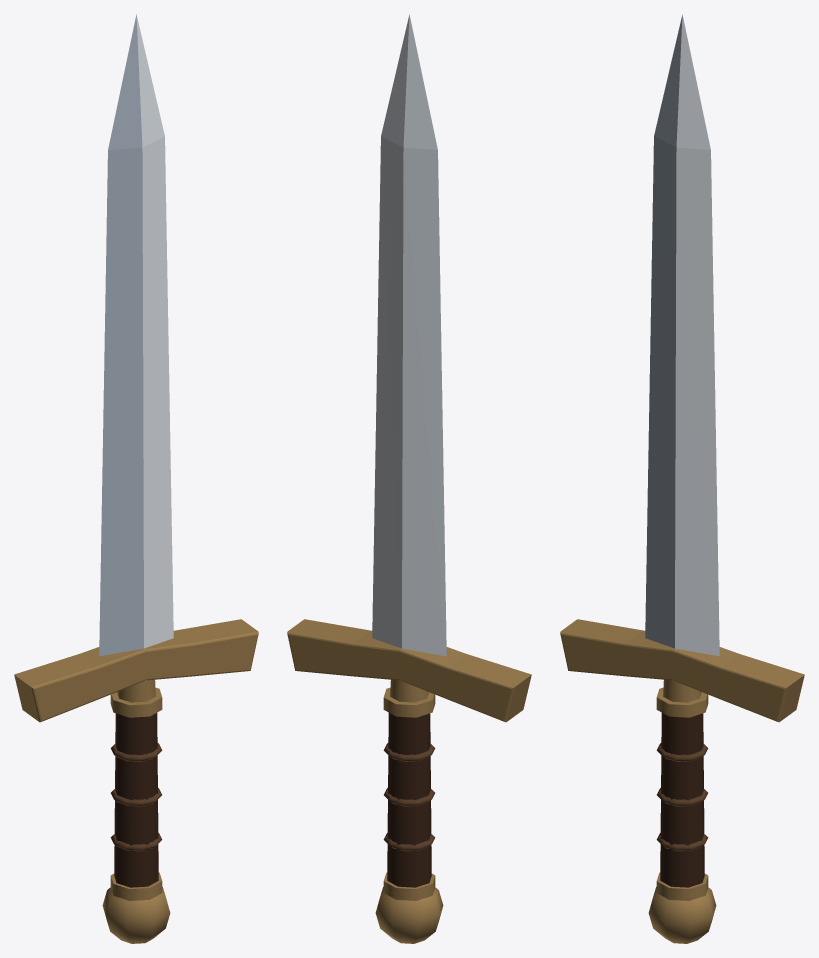
The model's file is sword_f0_f70545a2.glb.
3 renders of one model, left to right at view 1: azimuth 30°, elevation 25°; view 2: azimuth 150°, elevation 25°; view 3: azimuth 330°, elevation 25°, orthographic.
Visible parts, largest first — view 1: m0_ow80_, m2_ow80_, m1_ow80_, m3_ow80_; view 2: m0_ow80_, m2_ow80_, m1_ow80_, m3_ow80_; view 3: m0_ow80_, m2_ow80_, m1_ow80_, m3_ow80_.
Boxes of the visible parts, x1=… form: m0_ow80_: x1=99, y1=14, x2=173, y2=656; m2_ow80_: x1=14, y1=619, x2=258, y2=943; m1_ow80_: x1=114, y1=713, x2=158, y2=887; m3_ow80_: x1=110, y1=743, x2=162, y2=851; m0_ow80_: x1=372, y1=14, x2=446, y2=656; m2_ow80_: x1=287, y1=619, x2=531, y2=943; m1_ow80_: x1=387, y1=713, x2=431, y2=887; m3_ow80_: x1=383, y1=743, x2=435, y2=851; m0_ow80_: x1=645, y1=14, x2=719, y2=656; m2_ow80_: x1=560, y1=619, x2=804, y2=943; m1_ow80_: x1=660, y1=713, x2=704, y2=887; m3_ow80_: x1=656, y1=743, x2=708, y2=851.
Bounding box in the file's own units: 0.4791 × 1.87 × 0.128.
